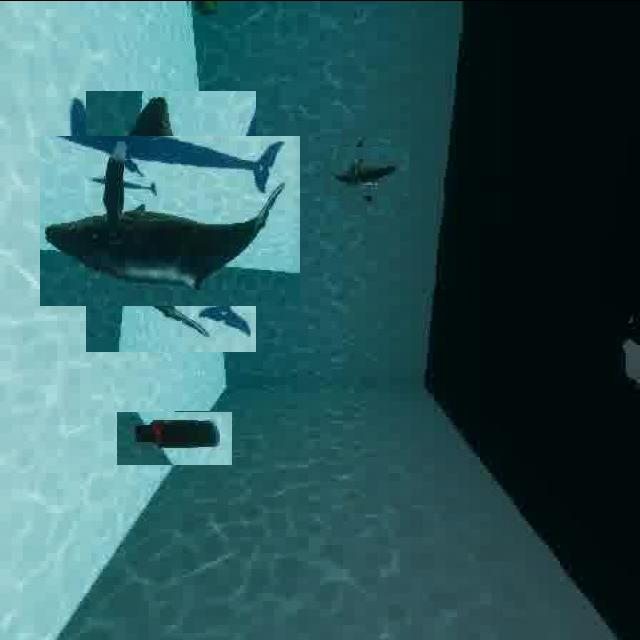Cylinder: (116, 410, 232, 464)
Whale: (62, 113, 278, 328), (332, 137, 400, 205)
